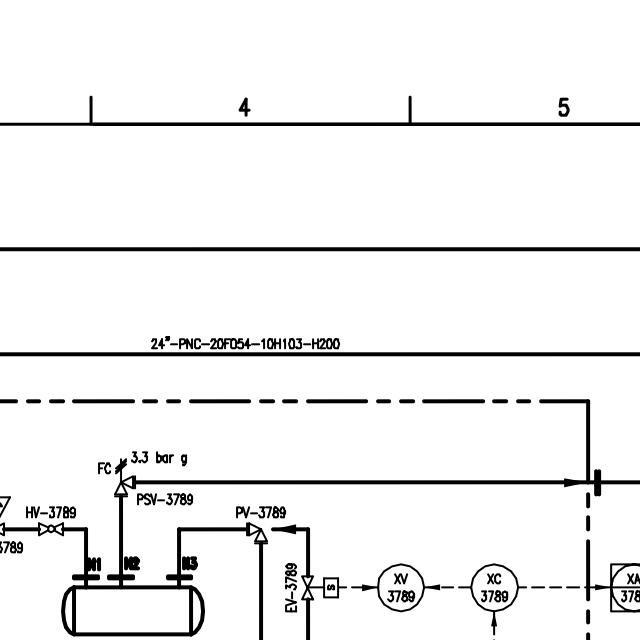BV2: (36, 517, 65, 536)
RPV: (239, 517, 291, 551), (113, 452, 138, 500)
SV: (296, 567, 342, 603)
TK: (57, 580, 209, 639)
